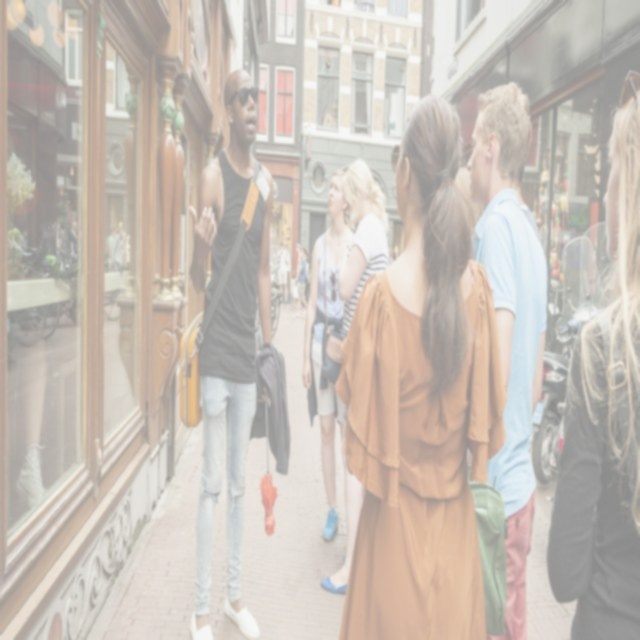pessoa: (326, 85, 503, 639), (181, 66, 293, 639), (536, 71, 640, 639), (464, 81, 549, 639), (318, 155, 392, 594), (7, 186, 79, 503), (302, 164, 356, 550), (454, 164, 484, 236), (107, 218, 131, 274), (292, 246, 308, 320), (276, 238, 290, 308), (288, 243, 302, 311), (302, 247, 311, 306), (386, 242, 402, 264)
